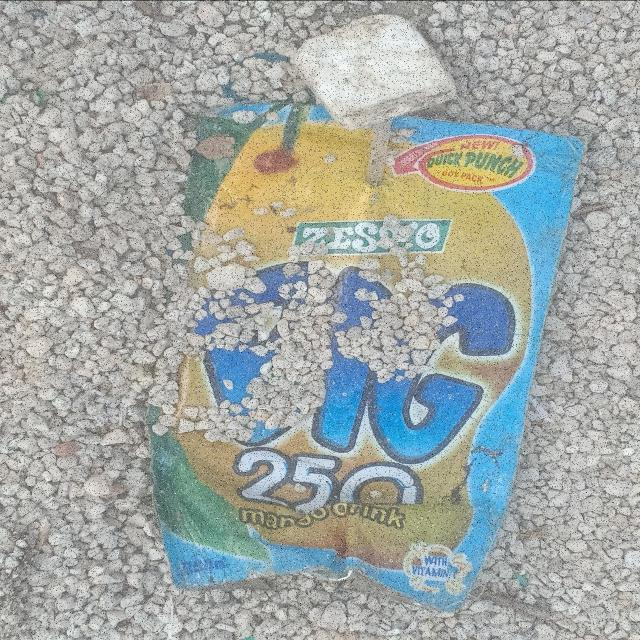plastic_waste: (144, 100, 591, 614)
